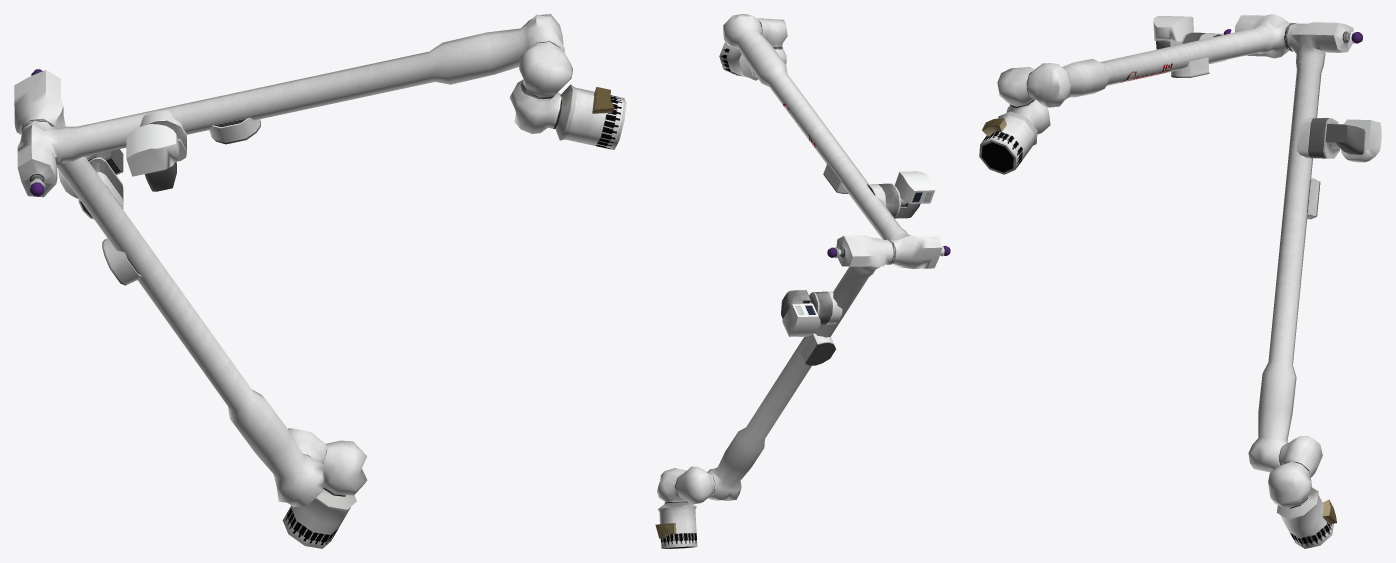
The model's file is big_arm.dae.
The picture shows the model from 3 angles, left to right: view 1: azimuth 30°, elevation 25°; view 2: azimuth 150°, elevation 25°; view 3: azimuth 270°, elevation 25°; orthographic projection. The views are drawn at different scales.
Parts seen in each view (by area): view 1: Big Arm_5, Big Arm_4, Big Arm_8, Big Arm_1, Big Arm_6, Big Arm_2, Big Arm_7, Big Arm_3; view 2: Big Arm_5, Big Arm_4, Big Arm_1, Big Arm_3, Big Arm_8, Big Arm_2, Big Arm_6; view 3: Big Arm_4, Big Arm_5, Big Arm_8, Big Arm_1, Big Arm_2, Big Arm_3, Big Arm_6, Big Arm_7.
Part boxes in pixels (x1,y1,x2,y2): Big Arm_5: [17, 14, 564, 197]; Big Arm_4: [14, 69, 324, 507]; Big Arm_8: [555, 84, 626, 149]; Big Arm_1: [282, 489, 356, 548]; Big Arm_6: [519, 41, 572, 97]; Big Arm_2: [323, 440, 367, 496]; Big Arm_7: [509, 79, 562, 133]; Big Arm_3: [288, 428, 327, 463]; Big Arm_5: [723, 14, 950, 268]; Big Arm_4: [707, 235, 895, 500]; Big Arm_1: [655, 502, 697, 548]; Big Arm_3: [675, 466, 715, 504]; Big Arm_8: [719, 42, 758, 80]; Big Arm_2: [657, 468, 687, 503]; Big Arm_6: [757, 18, 787, 46]; Big Arm_4: [1248, 22, 1381, 471]; Big Arm_5: [1027, 14, 1292, 107]; Big Arm_8: [979, 111, 1037, 174]; Big Arm_1: [1276, 487, 1336, 548]; Big Arm_2: [1268, 461, 1311, 508]; Big Arm_3: [1279, 436, 1322, 477]; Big Arm_6: [997, 67, 1033, 106]; Big Arm_7: [1006, 90, 1050, 134].
Size of the model in its own units: 3.69 by 3.47 by 4.81.
Materials: 1 (1 with a texture image).
